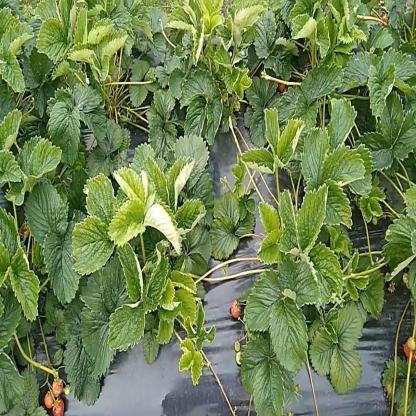ripe: (403, 333, 415, 360), (230, 297, 243, 320), (52, 399, 66, 416), (52, 379, 63, 397), (276, 78, 286, 96)
